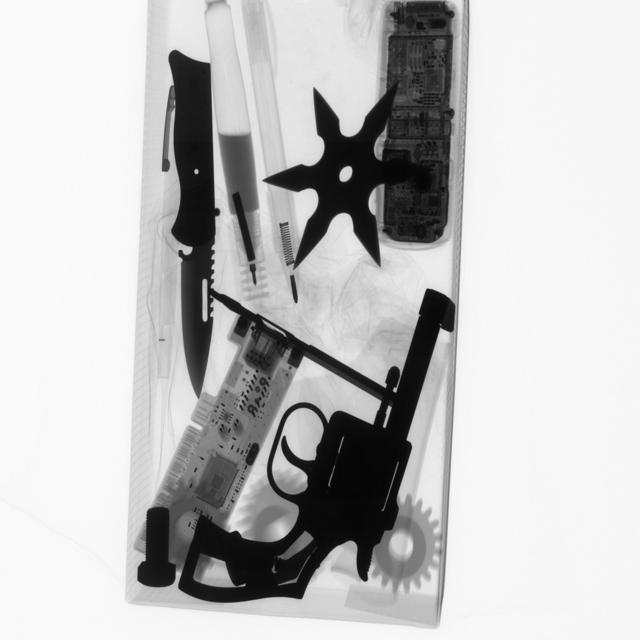gun: (176, 283, 456, 610)
knife: (159, 46, 227, 406)
shuriken: (258, 80, 420, 277)
